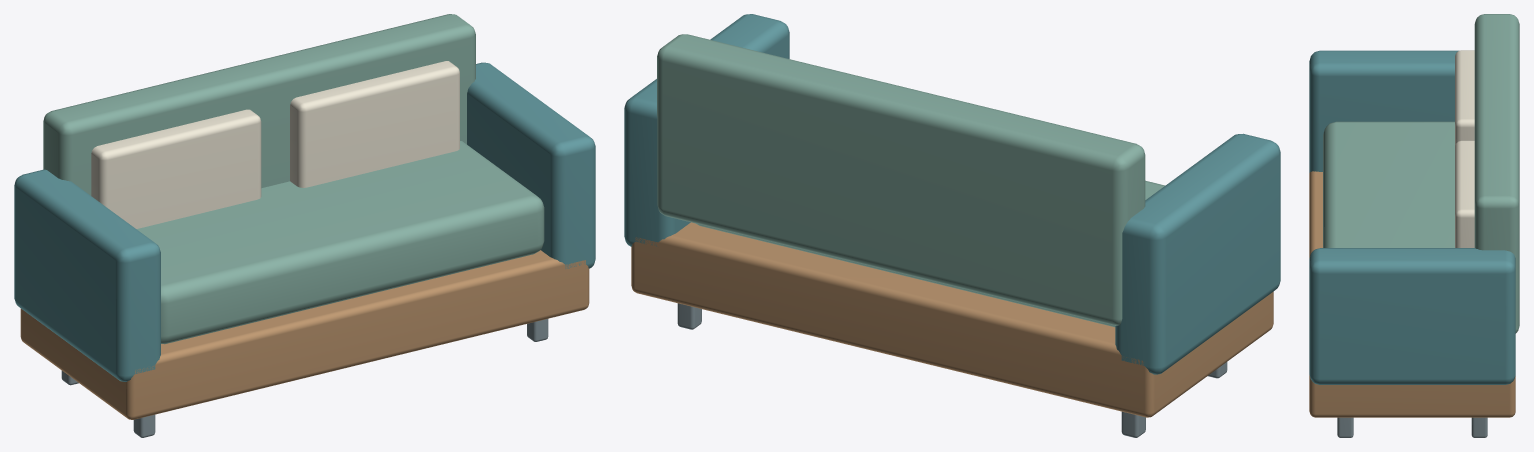
The model's file is alpha_sofa.glb.
3 views of the same model, side by side, from view 1: azimuth 30°, elevation 25°; view 2: azimuth 150°, elevation 25°; view 3: azimuth 270°, elevation 25° (orthographic). The views are drawn at different scales.
Parts seen in each view (by area): view 1: Alpha_sage, Alpha_teal, Alpha_oak, Alpha_cream, Alpha_metal; view 2: Alpha_sage, Alpha_oak, Alpha_teal, Alpha_metal; view 3: Alpha_teal, Alpha_sage, Alpha_oak, Alpha_cream, Alpha_metal.
Part boxes in pixels (bbox=[...]): Alpha_sage: bbox=[43, 14, 544, 344]; Alpha_teal: bbox=[14, 62, 595, 381]; Alpha_oak: bbox=[20, 250, 589, 419]; Alpha_cream: bbox=[91, 61, 459, 228]; Alpha_metal: bbox=[61, 319, 548, 437]; Alpha_sage: bbox=[657, 34, 1165, 327]; Alpha_oak: bbox=[631, 222, 1273, 417]; Alpha_teal: bbox=[624, 14, 1280, 374]; Alpha_metal: bbox=[677, 303, 1227, 437]; Alpha_teal: bbox=[1309, 50, 1515, 384]; Alpha_sage: bbox=[1323, 14, 1519, 333]; Alpha_oak: bbox=[1309, 171, 1515, 417]; Alpha_cream: bbox=[1455, 50, 1474, 247]; Alpha_metal: bbox=[1337, 417, 1487, 437].
Bounding box in the file's own units: 2.07 × 1.07 × 0.845.
